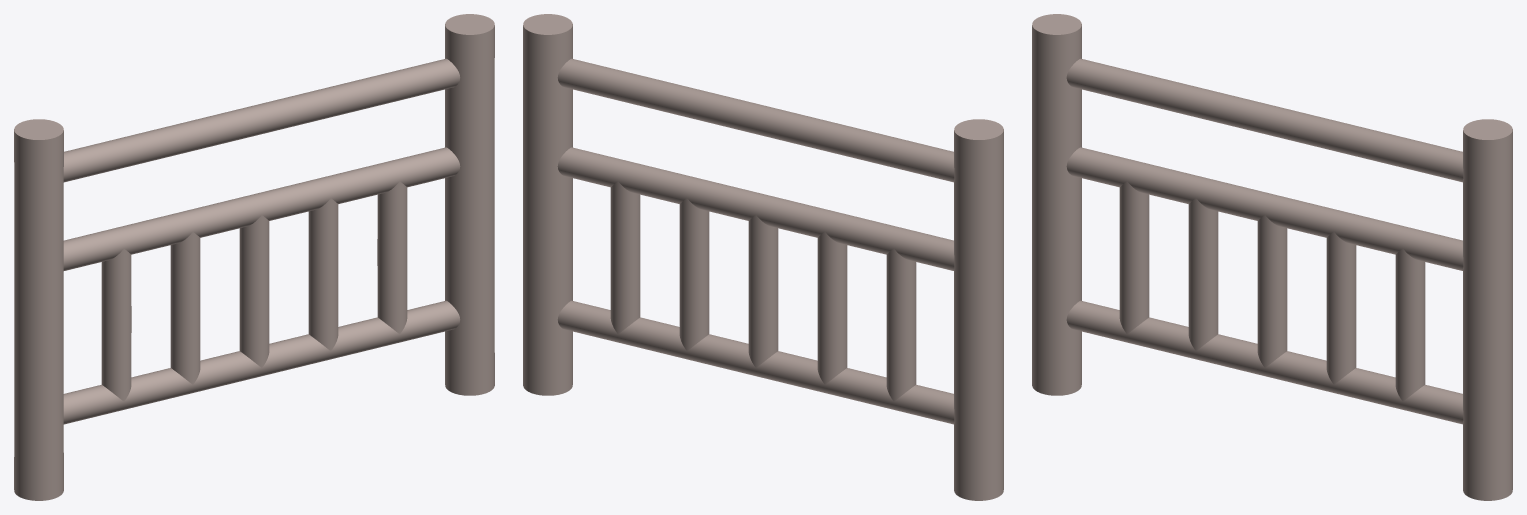
File: 1030_fence_1.glb
3 renders of one model, left to right at view 1: azimuth 30°, elevation 25°; view 2: azimuth 150°, elevation 25°; view 3: azimuth 330°, elevation 25°, orthographic.
Visible parts, largest first — view 1: Body; view 2: Body; view 3: Body.
Boxes of the visible parts, x1,y1,x2,y2 form: Body: (14, 14, 494, 500); Body: (523, 14, 1003, 500); Body: (1032, 14, 1512, 500).
Size of the model in its own units: 1.65 by 1.2 by 0.15.
